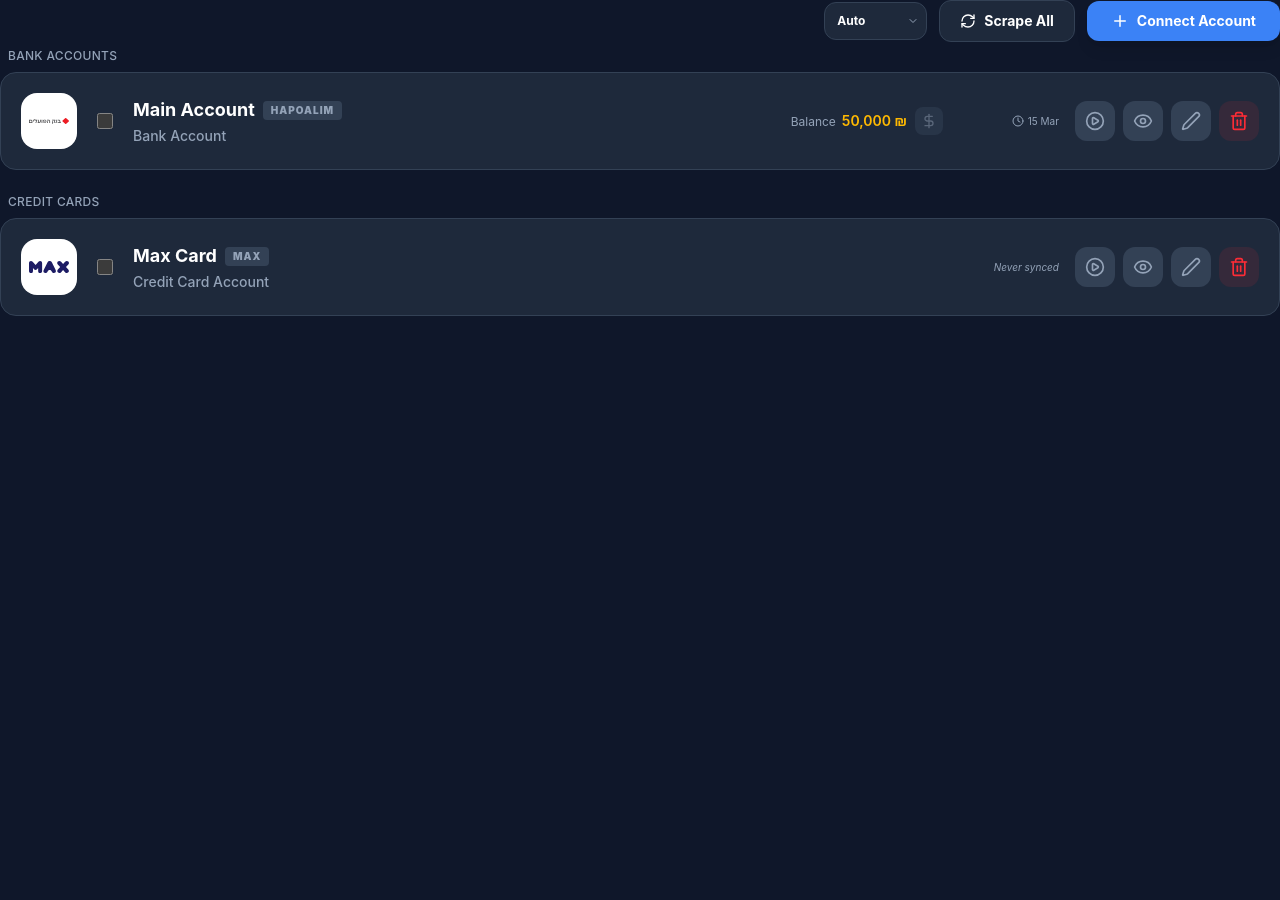
Test: DataSources › disconnect account data choice › preselects keeping data and never preselects the destructive option
Check: the heading "Main Account" is shown, box [133,96,255,124]
Click the button named "disconnect account" in the row of "15 Mar". click: (1239, 121)
box: [1219,101,1259,141]
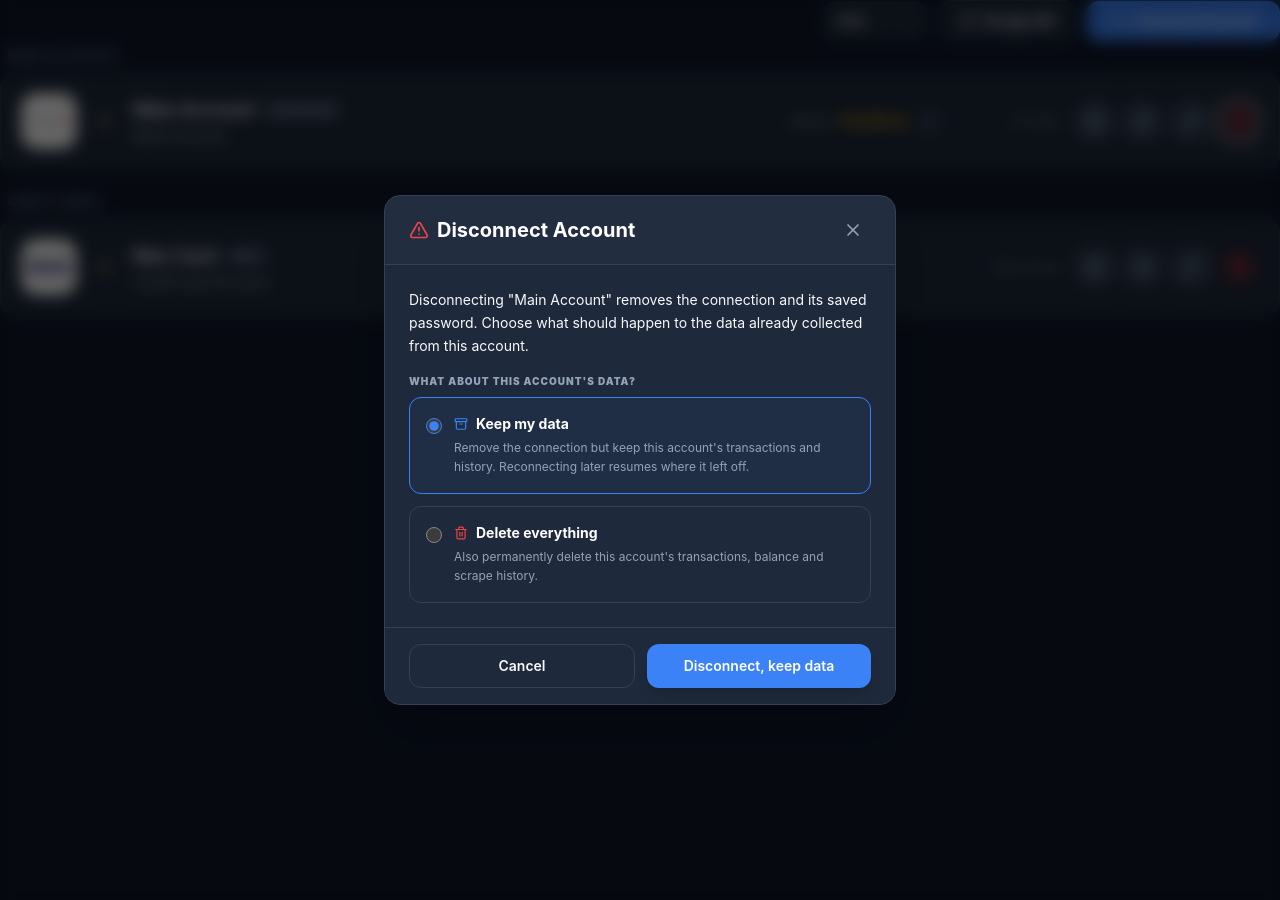
Check: the radio button labelled "Keep my data" is checked, box [426,418,442,434]
Check: the radio button labelled "Delete everything" is not checked, box [426,527,442,543]
